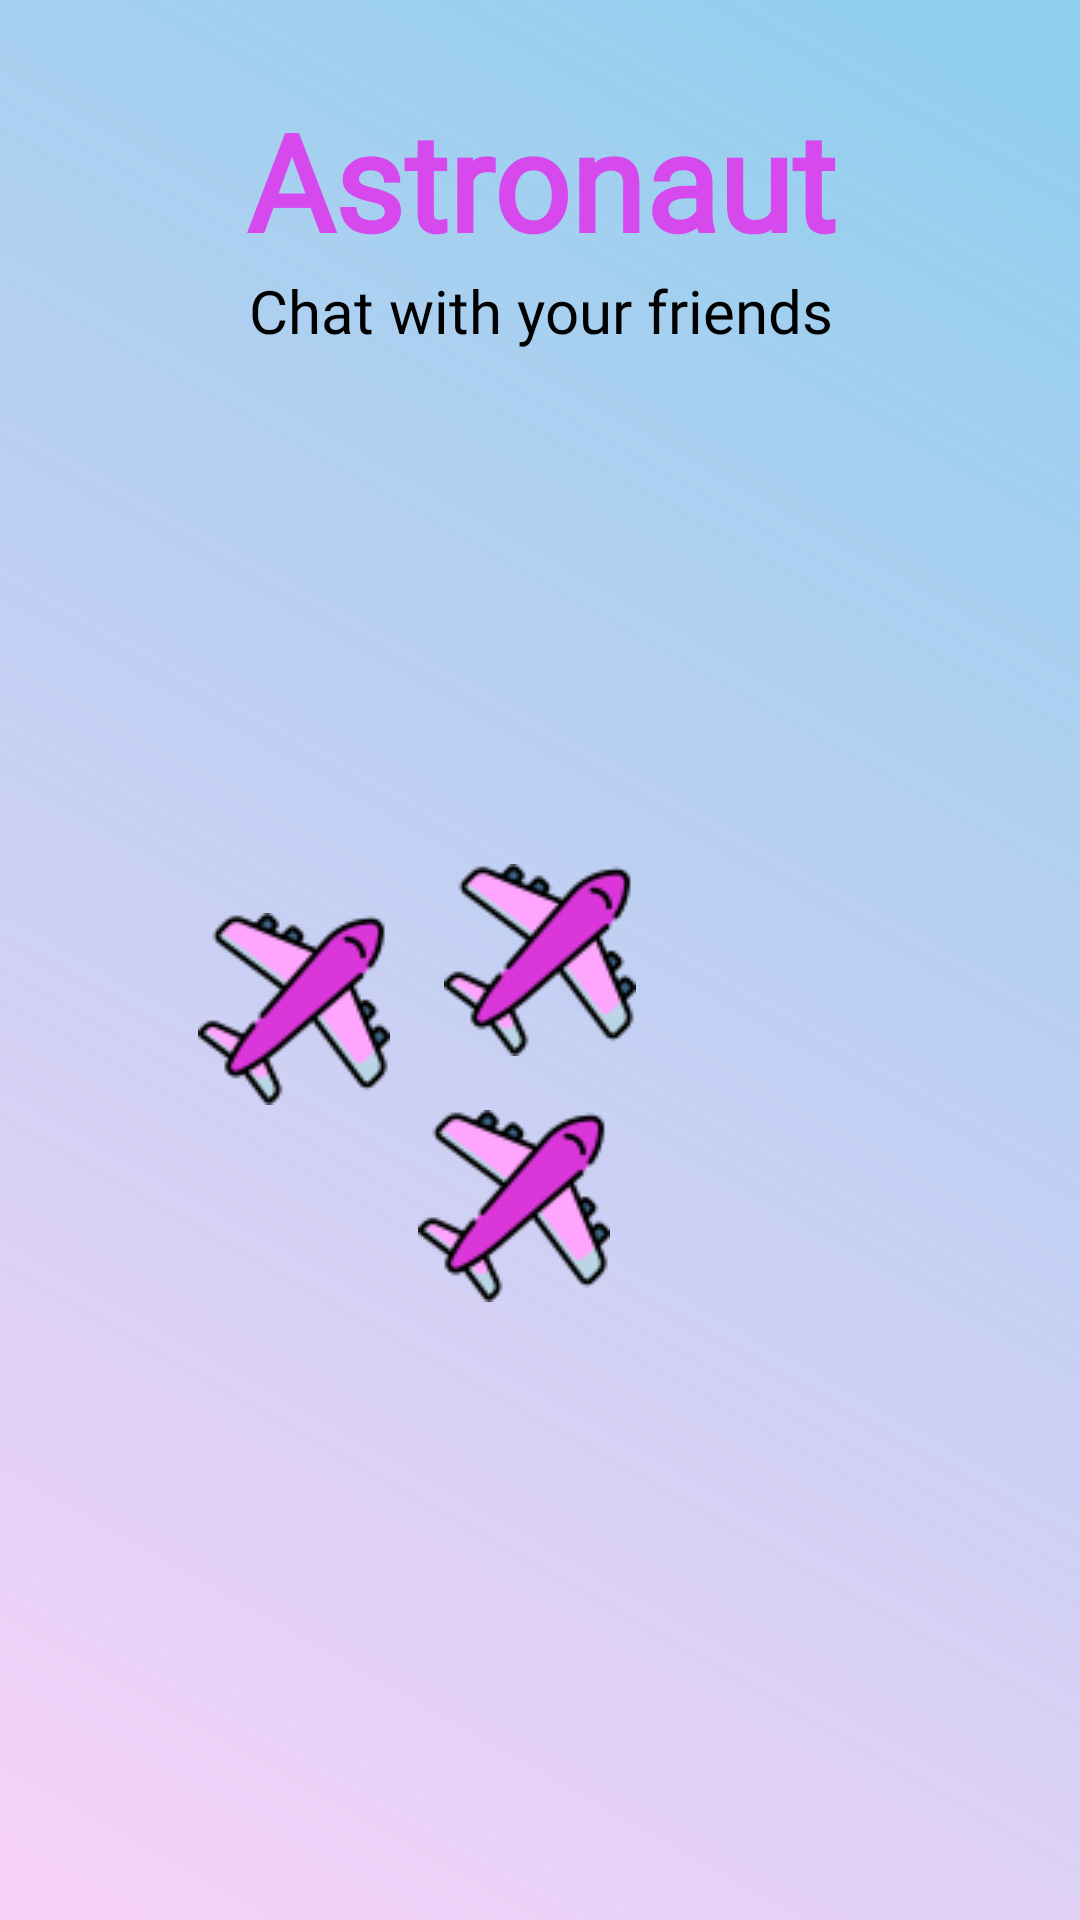

Icons on this 1080x1920 Android screen, each with the point to tap as (x,y):
plane: (540,960), (294,1009), (514,1206)
